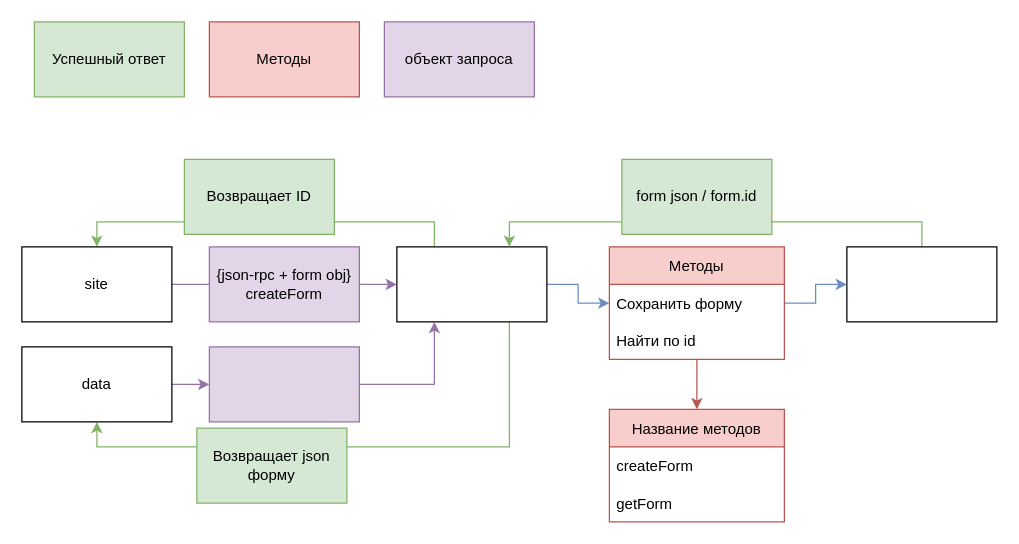
The diagram is 1019 pixels wide and 544 high, and some of its shapes have lost their labels. Here are the shapes that lost their labels. From the top down, the centre of each, then its label:
the point at 471,284: API
the point at 921,284: mongoDB
the point at 283,384: {json-rpc + ID} getForm
